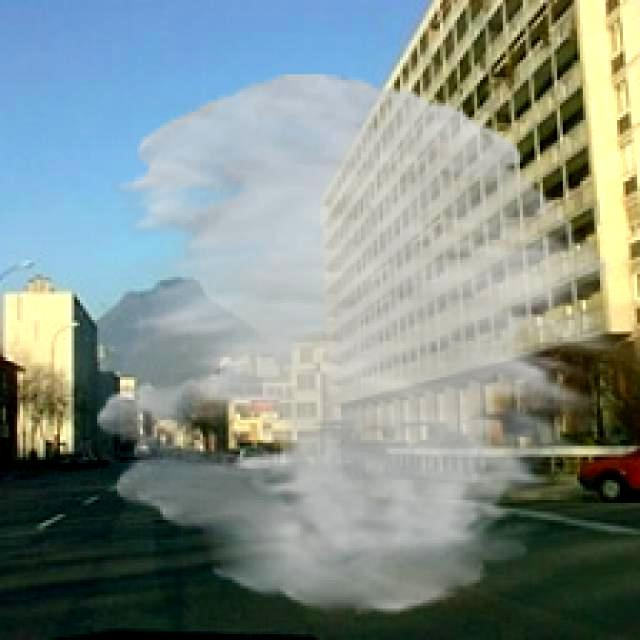no_helmet: (97, 75, 617, 615)
